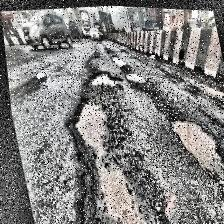pothole: (24, 64, 140, 224), (36, 82, 148, 224), (56, 88, 156, 224), (34, 86, 112, 224), (14, 88, 82, 188)
